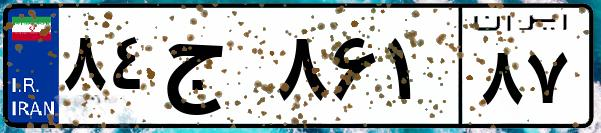1: (385, 28, 445, 110)
4: (110, 28, 158, 98)
6: (330, 28, 385, 110)
7: (525, 38, 570, 115)
8: (270, 28, 330, 110), (57, 26, 110, 100), (475, 38, 525, 113)
ج: (158, 20, 270, 120)
